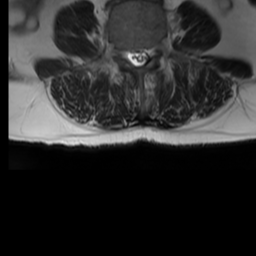CCS_normal: (135, 42, 142, 74)
LFS_normal: (150, 41, 157, 62)
LLS_normal: (143, 42, 149, 70)
RFS_normal: (120, 43, 127, 64)
RLS_normal: (127, 42, 134, 68)
